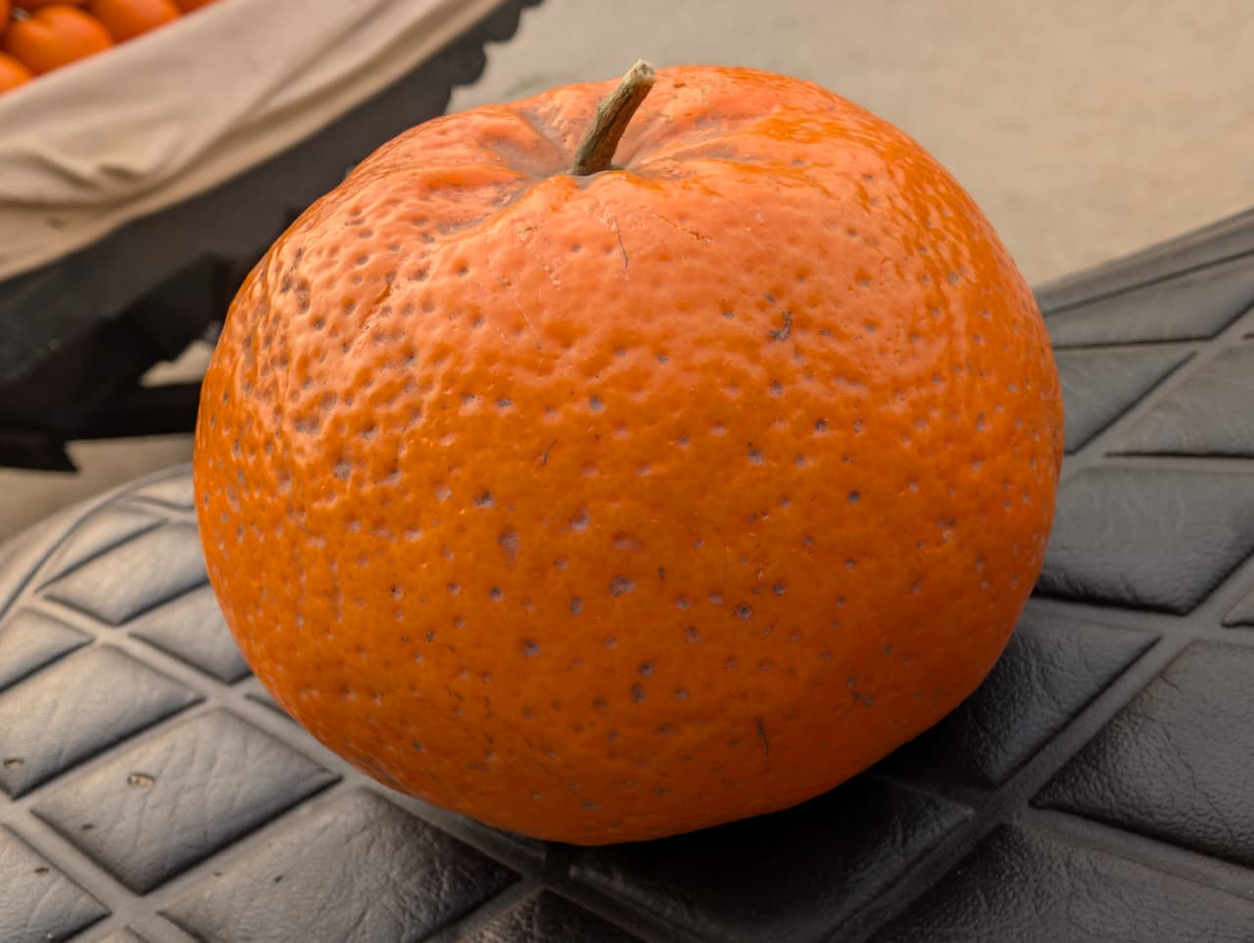orange: (253, 147, 1176, 943)
